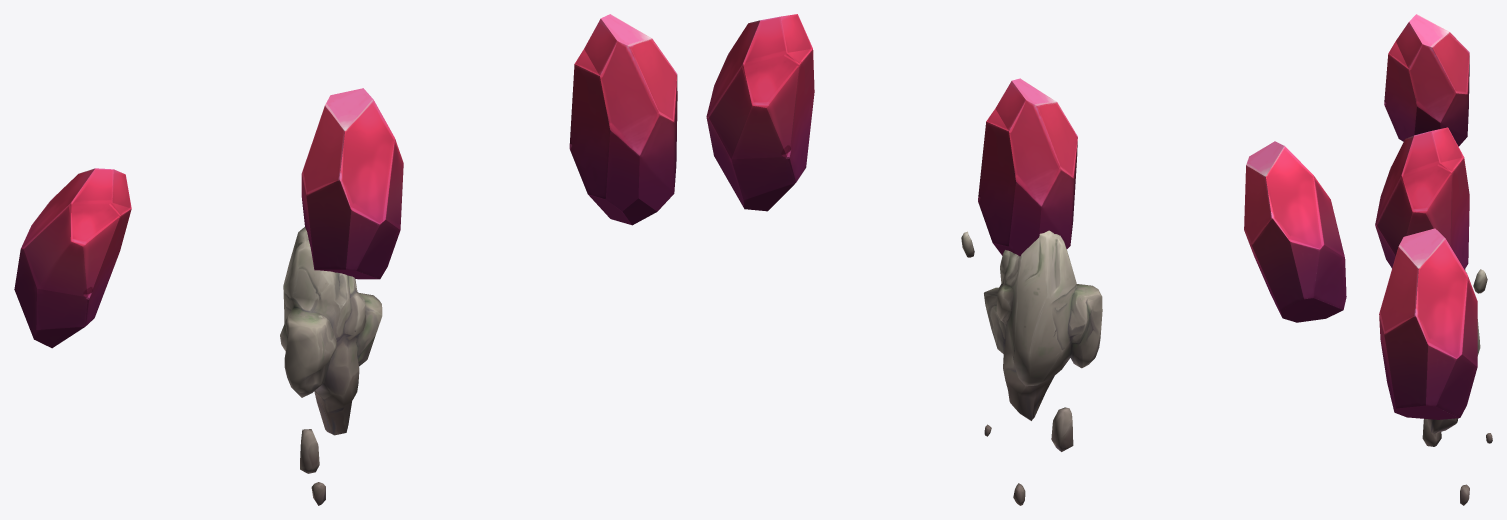
Rendered from resources.glb.
The picture shows the model from 3 angles, left to right: view 1: azimuth 30°, elevation 25°; view 2: azimuth 150°, elevation 25°; view 3: azimuth 270°, elevation 25°; orthographic projection. The views are drawn at different scales.
Parts seen in each view (by area): view 1: Crystal002, Crystal000, Crystal001, Rock000; view 2: Crystal002, Rock000, Crystal000, Crystal001; view 3: Crystal002, Crystal000, Crystal001, Rock000.
Part boxes in pixels (<box>): Crystal002: <box>569,14,677,225</box>; Crystal000: <box>301,88,403,279</box>; Crystal001: <box>14,168,131,348</box>; Rock000: <box>280,227,382,505</box>; Crystal002: <box>706,14,814,211</box>; Rock000: <box>961,230,1102,505</box>; Crystal000: <box>978,78,1077,256</box>; Crystal001: <box>1244,141,1346,322</box>; Crystal002: <box>1379,228,1477,419</box>; Crystal000: <box>1375,127,1469,269</box>; Crystal001: <box>1384,14,1469,146</box>; Rock000: <box>1422,269,1492,505</box>.
Size of the model in its own units: 6.41 by 4.09 by 1.1.
Materials: 2 (2 with a texture image).
